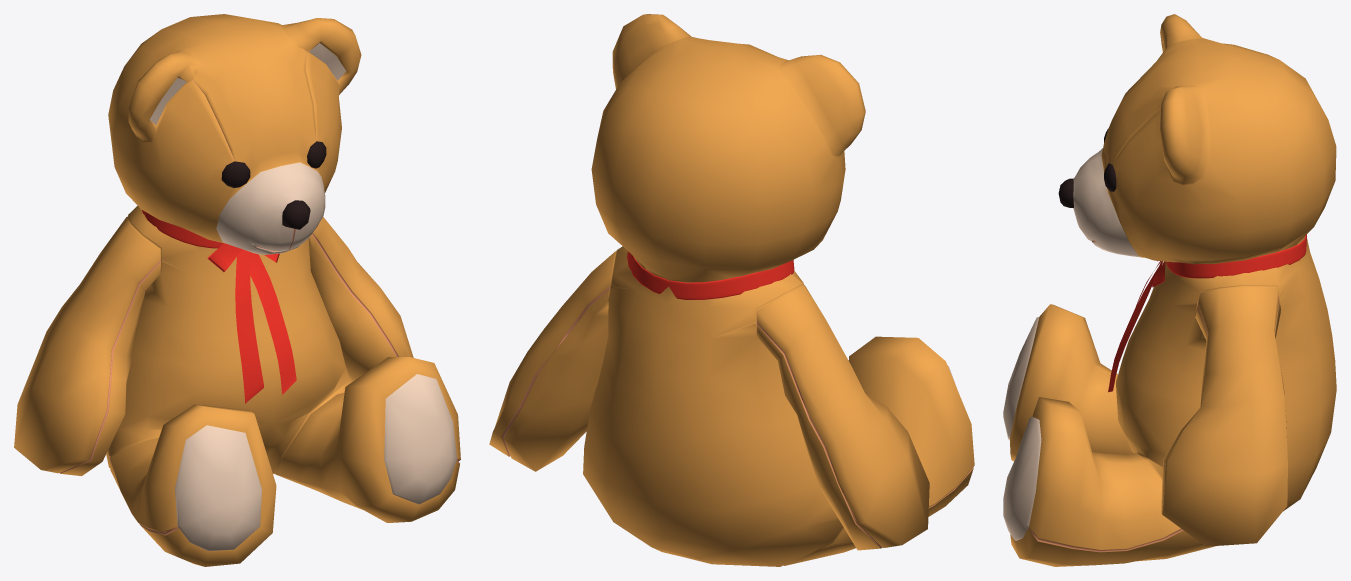
File: kuma (1).glb
3 views of the same model, side by side, from view 1: azimuth 30°, elevation 25°; view 2: azimuth 150°, elevation 25°; view 3: azimuth 270°, elevation 25° (orthographic). The views are drawn at different scales.
Visible parts, largest first — view 1: node-0; view 2: node-0; view 3: node-0.
Part boxes in pixels (box(x1,y1,x2,y2)): node-0: box(14, 14, 460, 566); node-0: box(489, 14, 974, 566); node-0: box(1003, 14, 1336, 566).
Bounding box in the file's own units: 605 × 699 × 456.
